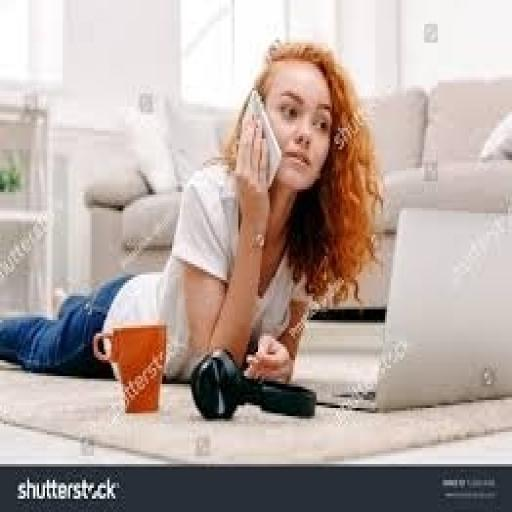using_laptop: (287, 203, 510, 413)
